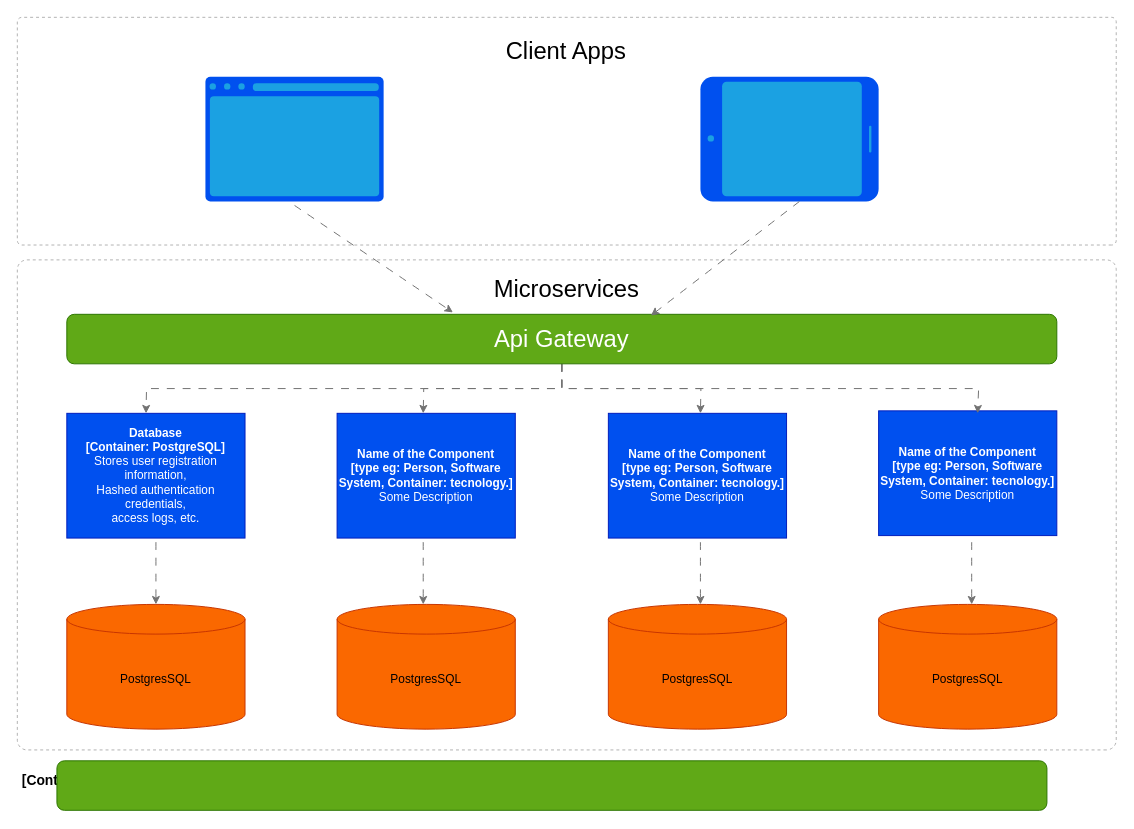
The diagram is 1134 pixels wide and 829 high, and some of its shapes have lost their labels. Here are the shapes that lost their labels. From the top down, the box of each, then its label:
(209, 96, 379, 196): Web App
(722, 81, 861, 196): Mobile App
(56, 760, 1047, 810): Broker
